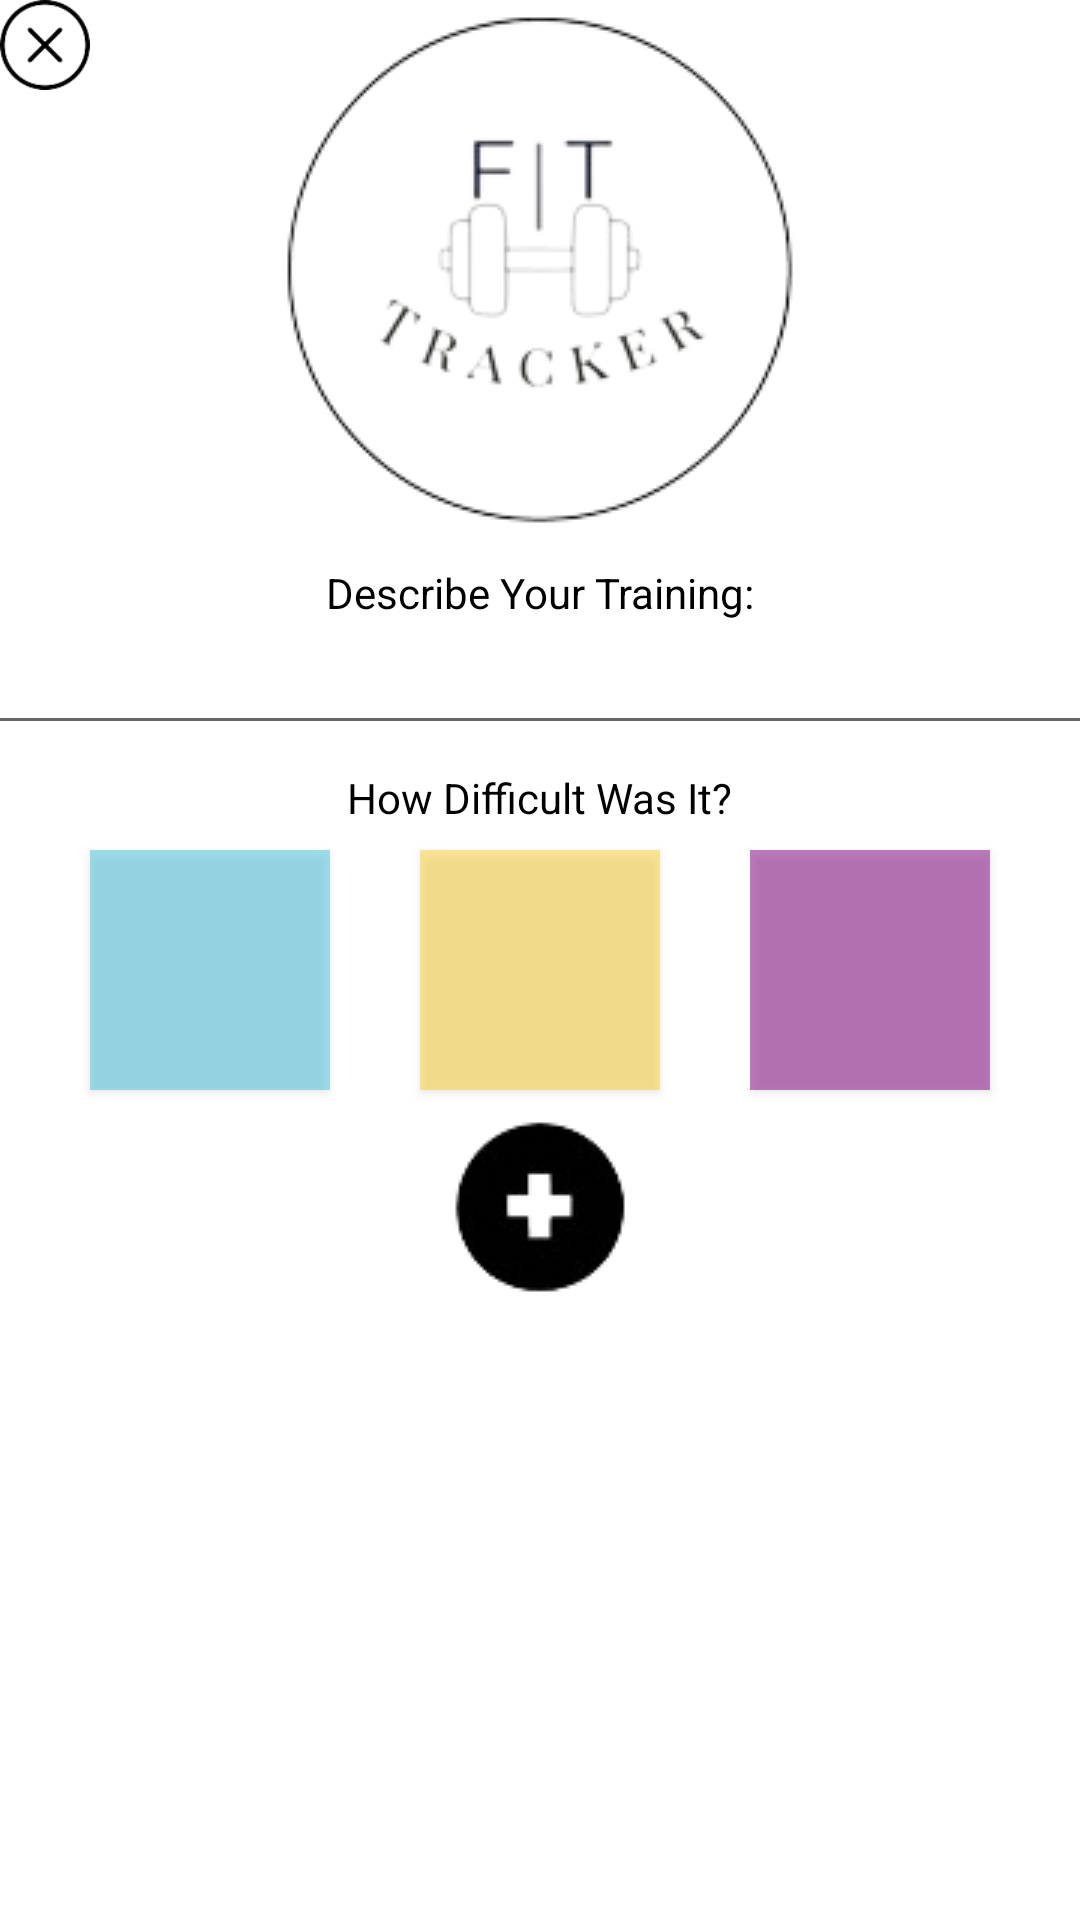

Screen size 1080*1920. Icon name, then its box in pixels as bbox=(x1, y1, x2, y2):
add: bbox=(455, 1122, 625, 1292)
close: bbox=(0, 0, 90, 90)
